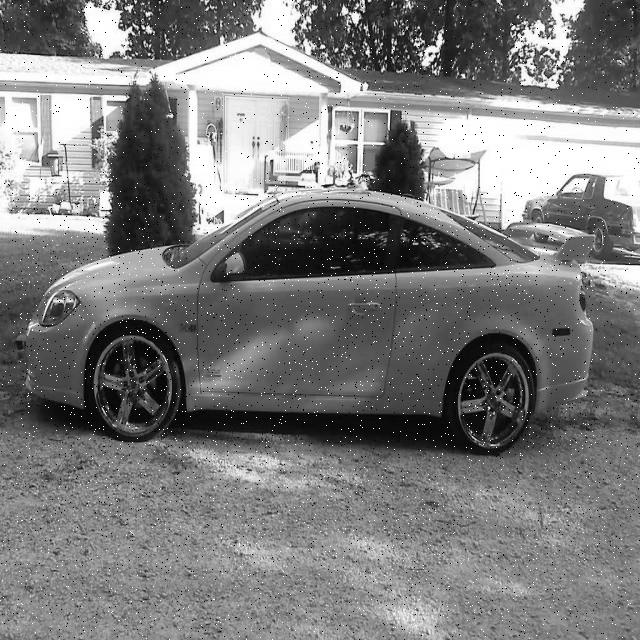Sedan: (20, 189, 596, 457)
